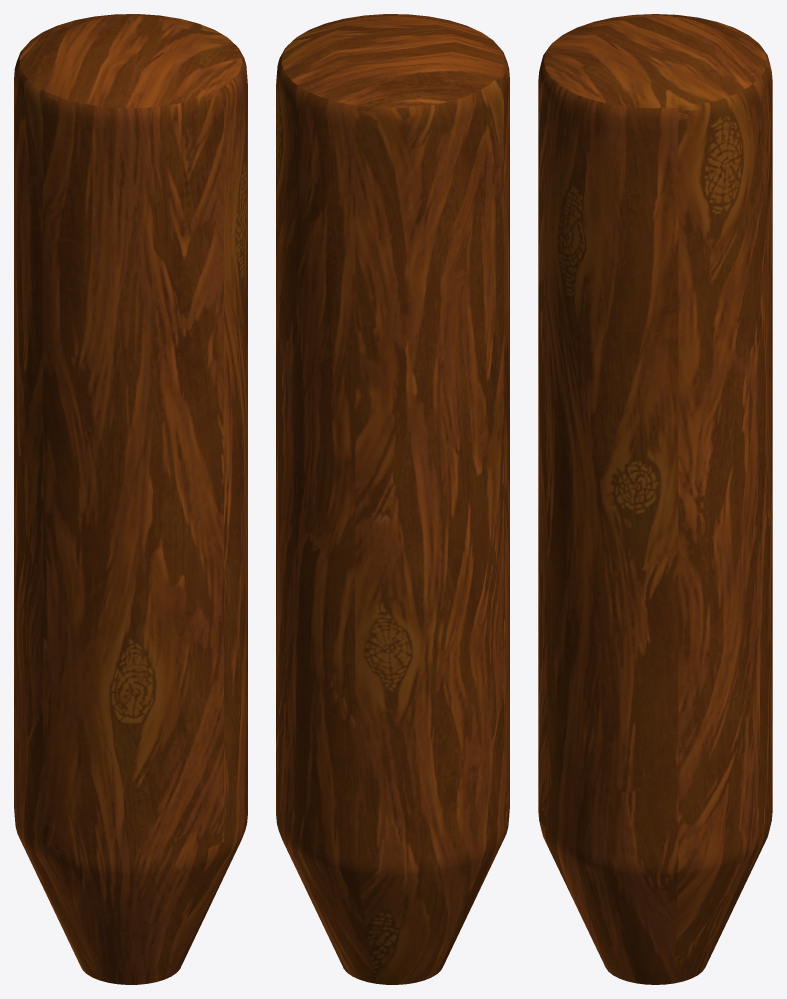
File: Tronco_Borde_01.glb
3 views of the same model, side by side, from view 1: azimuth 30°, elevation 25°; view 2: azimuth 150°, elevation 25°; view 3: azimuth 270°, elevation 25° (orthographic).
Visible parts, largest first — view 1: Cylinder; view 2: Cylinder; view 3: Cylinder.
Part boxes in pixels (x1=…): Cylinder: x1=14, y1=14, x2=247, y2=984; Cylinder: x1=276, y1=14, x2=509, y2=984; Cylinder: x1=538, y1=14, x2=772, y2=984.
Size of the model in its own units: 0.777 by 3.37 by 0.777.
1 material, 1 textured.
